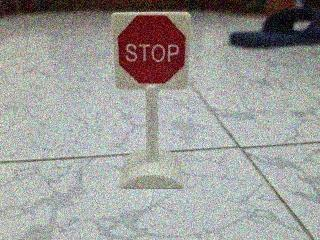stop: (105, 8, 198, 97)
